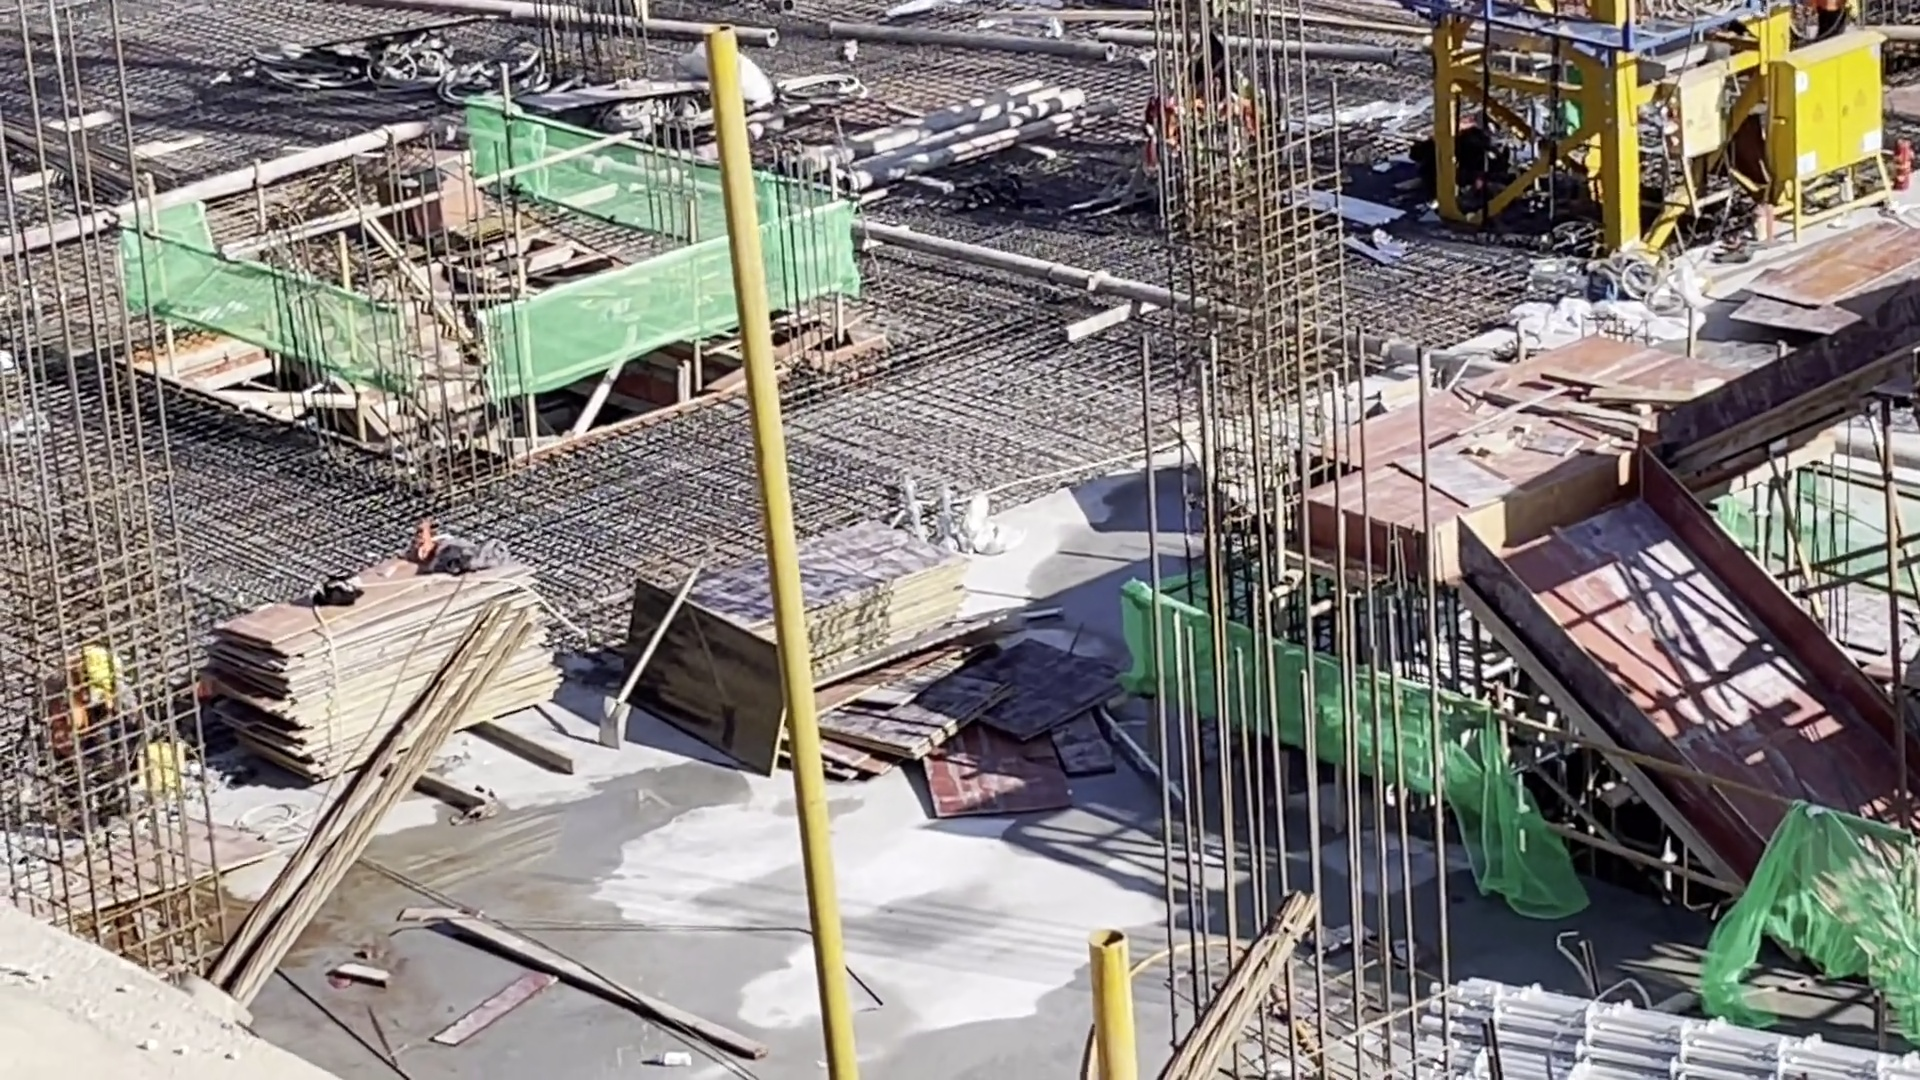board: (214, 542, 559, 785), (667, 521, 972, 680)
ebox: (1759, 24, 1903, 245), (1656, 61, 1749, 218)
handcart: (305, 22, 454, 88)
